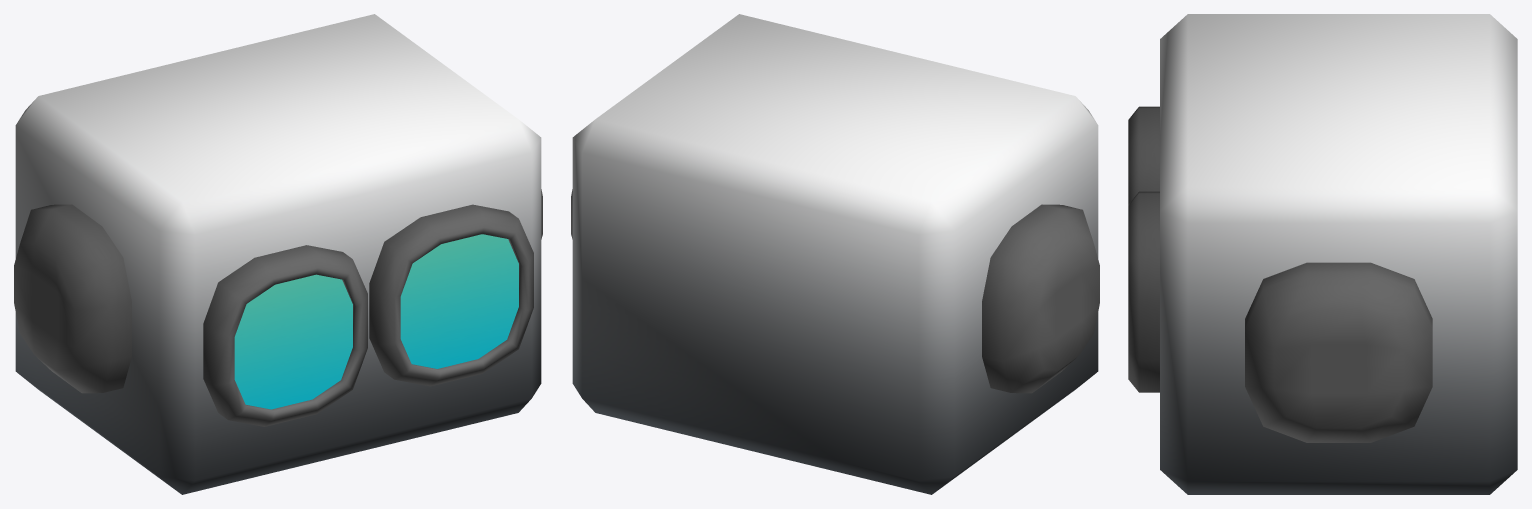
File: Robot 1.fbx
3 renders of one model, left to right at view 1: azimuth 30°, elevation 25°; view 2: azimuth 150°, elevation 25°; view 3: azimuth 270°, elevation 25°, orthographic. The views are drawn at different scales.
Visible parts, largest first — view 1: Head; view 2: Head; view 3: Head.
Boxes of the visible parts, box(x1,y1,x2,y2) form: Head: box(14, 14, 542, 494); Head: box(571, 14, 1099, 494); Head: box(1128, 14, 1517, 494).
Bounding box in the file's own units: 5728 × 3750 × 3935.
